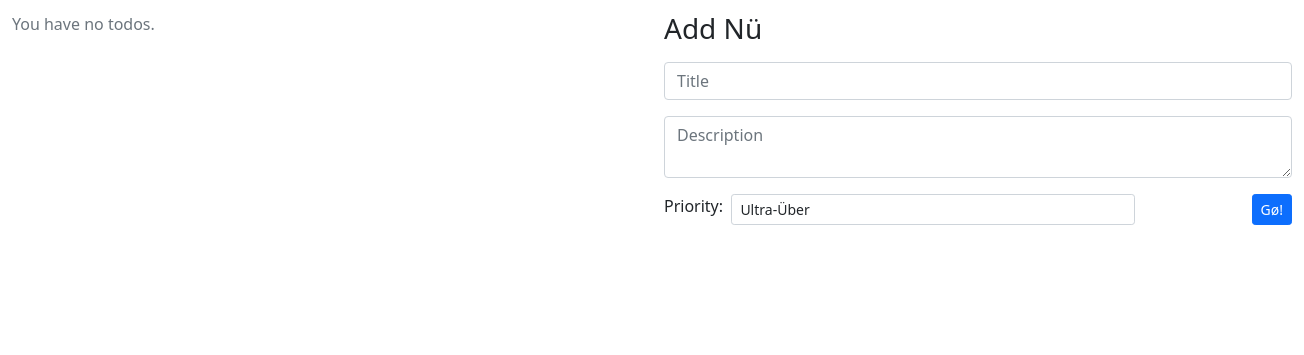
Test TopTodo Deleted
Type "test title" into the field with id "newTodo-title" at x=978, y=81, box top-left (664, 62), bottom-right (1292, 100)
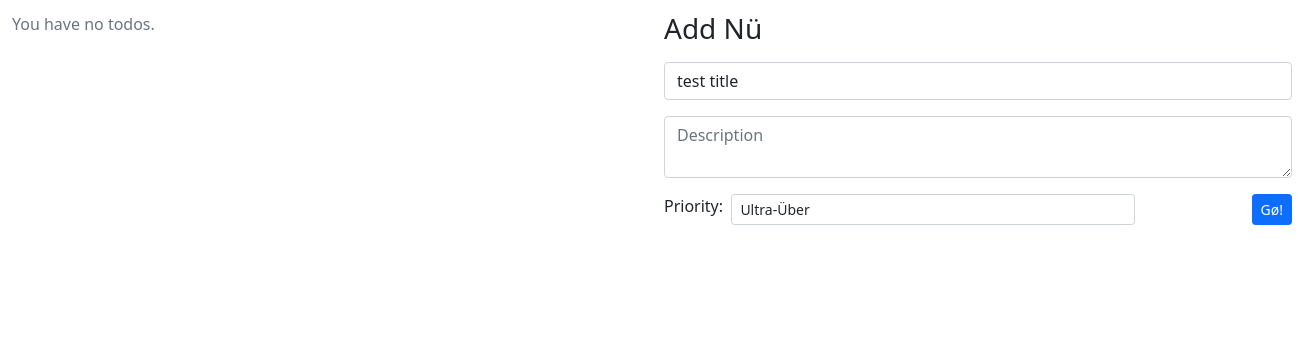
Type "test description" into the text box with id "newTodo-description" at x=978, y=147, box top-left (664, 116), bottom-right (1292, 178)
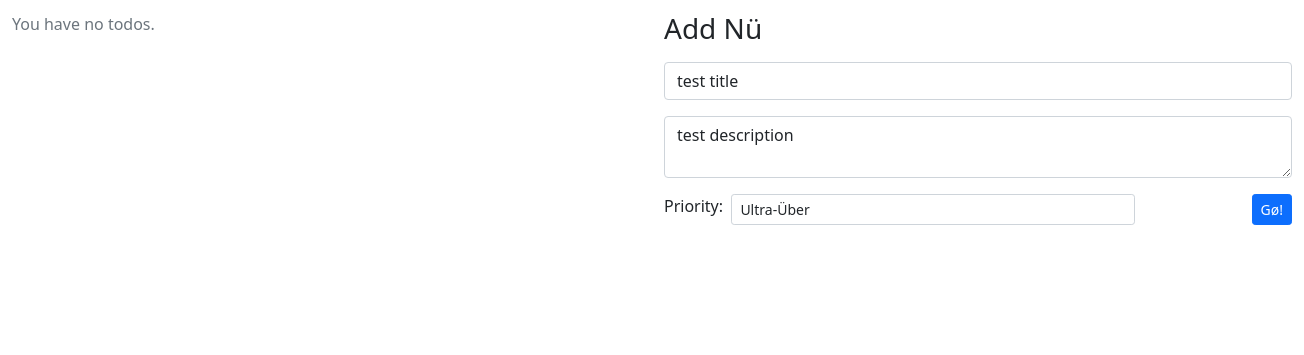
Select "Über" in the dropdown with id "newTodo-priority" at x=933, y=209, box top-left (731, 194), bottom-right (1135, 225)
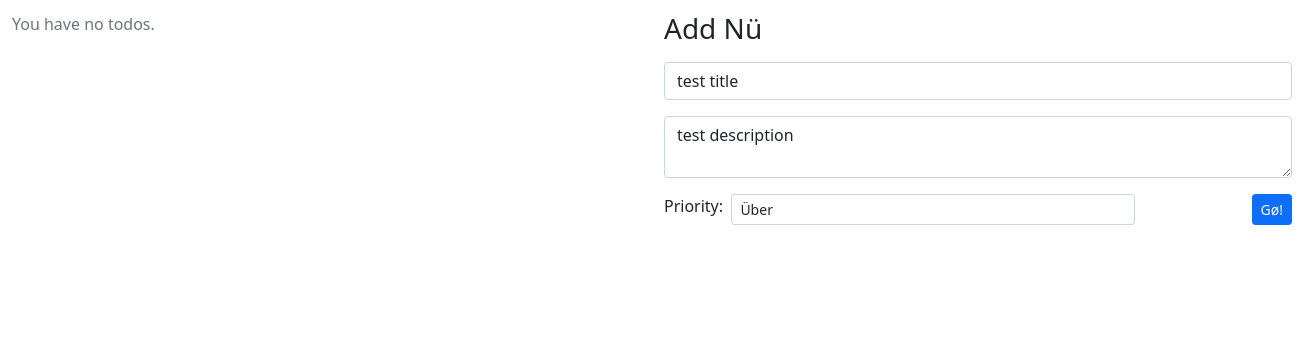
Submit the form from the button with class "NewTodoForm-addBtn", box top-left (1252, 194), bottom-right (1292, 225)
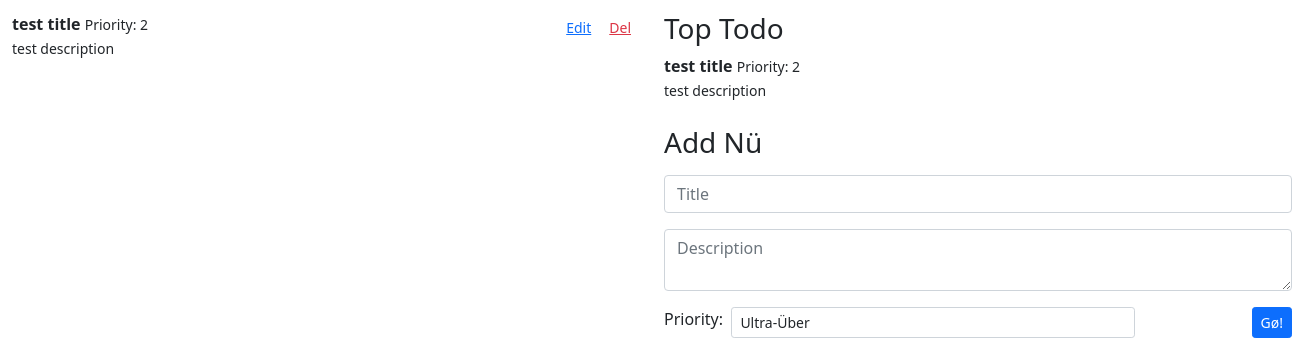
Result: the text "You have no todos." is gone
Result: the text "test title" is shown at top-left (12, 13), bottom-right (81, 35)
Result: the element with id "topTodo" shows "test title" at top-left (664, 55), bottom-right (733, 77)
Click the button with class "EditableTodo-delBtn" at x=620, y=28, box top-left (600, 12), bottom-right (640, 43)
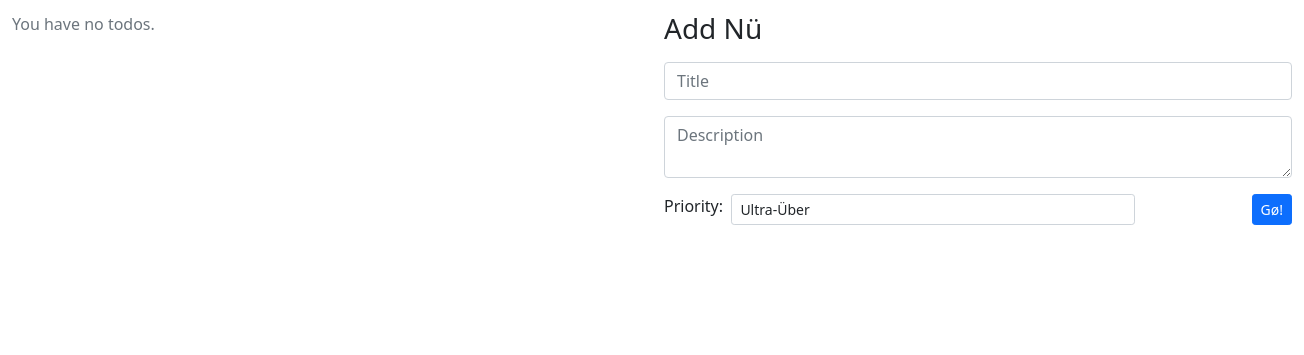
Result: the text "You have no todos." is shown at top-left (12, 13), bottom-right (155, 35)
